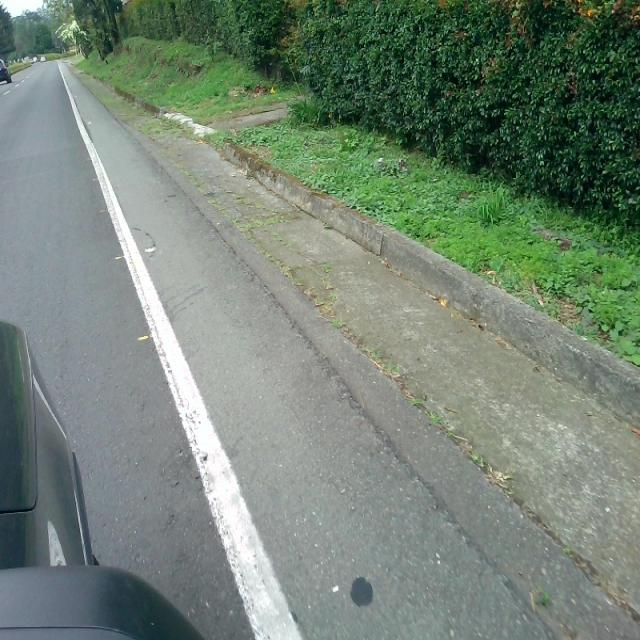DITCH: (21, 46, 638, 637), (24, 52, 638, 638), (57, 59, 638, 638)
